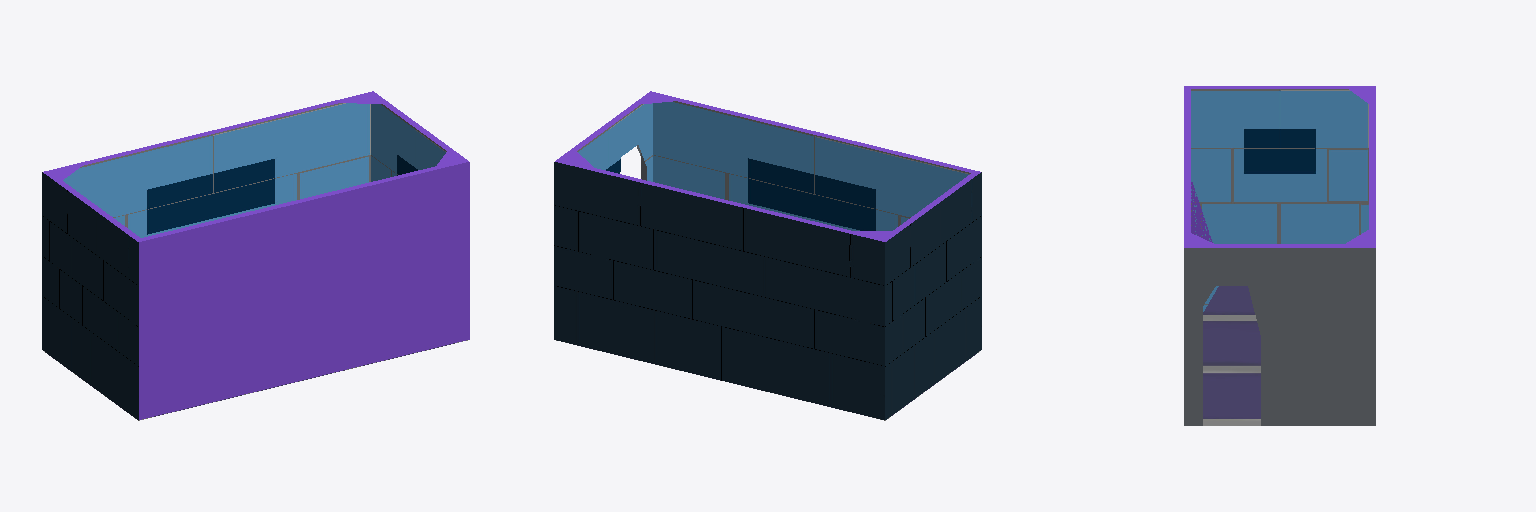
3 views of the same model, side by side, from view 1: azimuth 30°, elevation 25°; view 2: azimuth 150°, elevation 25°; view 3: azimuth 270°, elevation 25° (orthographic).
Visible parts, largest first — view 1: paredes; view 2: paredes; view 3: paredes, Box001.
Boxes of the visible parts, box(x1,y1,x2,y2) form: paredes: box(42, 91, 469, 419); paredes: box(554, 91, 981, 419); paredes: box(1184, 86, 1375, 425); Box001: box(1203, 286, 1260, 425).
Bounding box in the file's own units: 207 × 106 × 104.
5 materials, 4 textured.